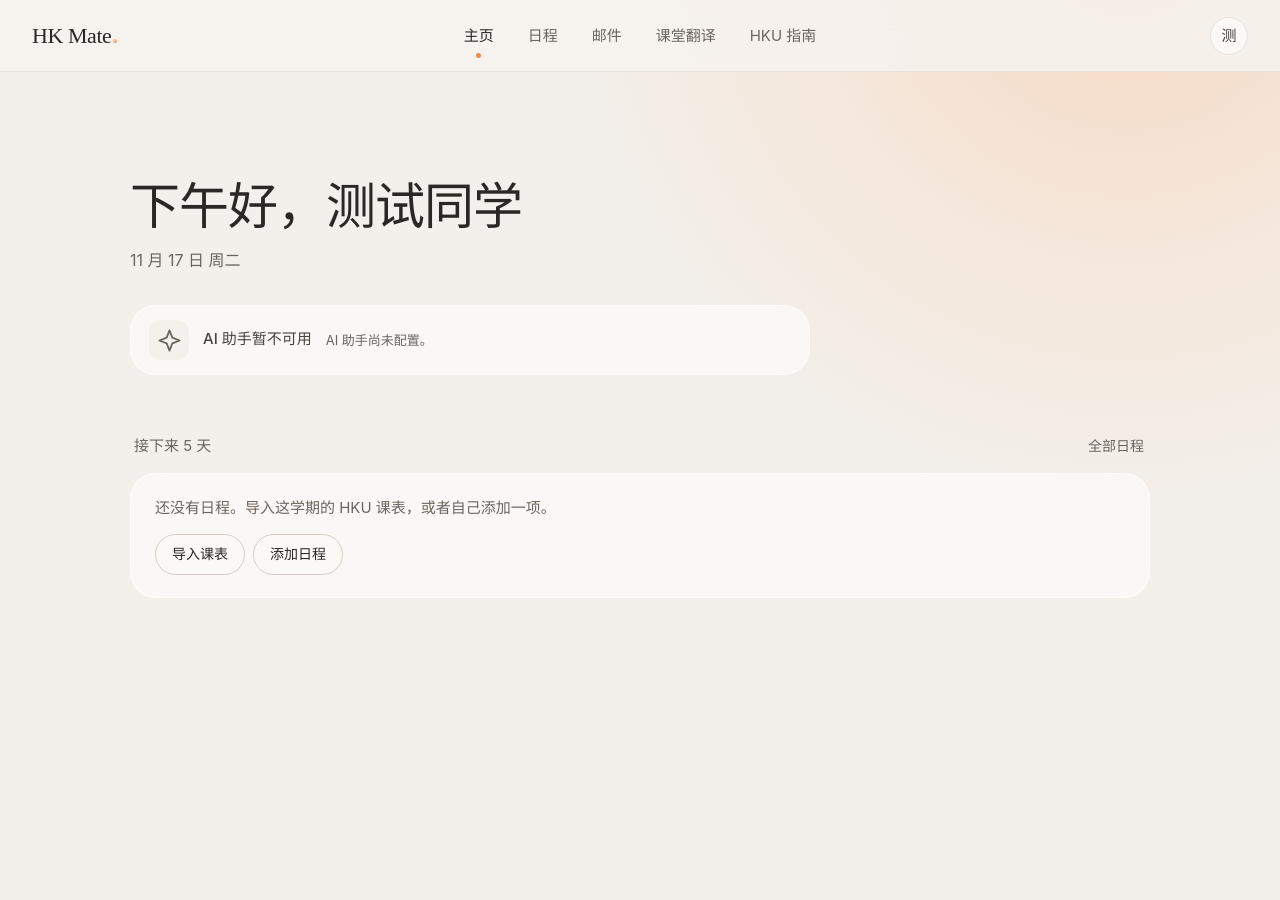
account pages › opens My Schedule with the add form from the home page
The image size is (1280, 900).
Step 1. Click the button "添加日程" → (298, 555), box [253,534,343,575]
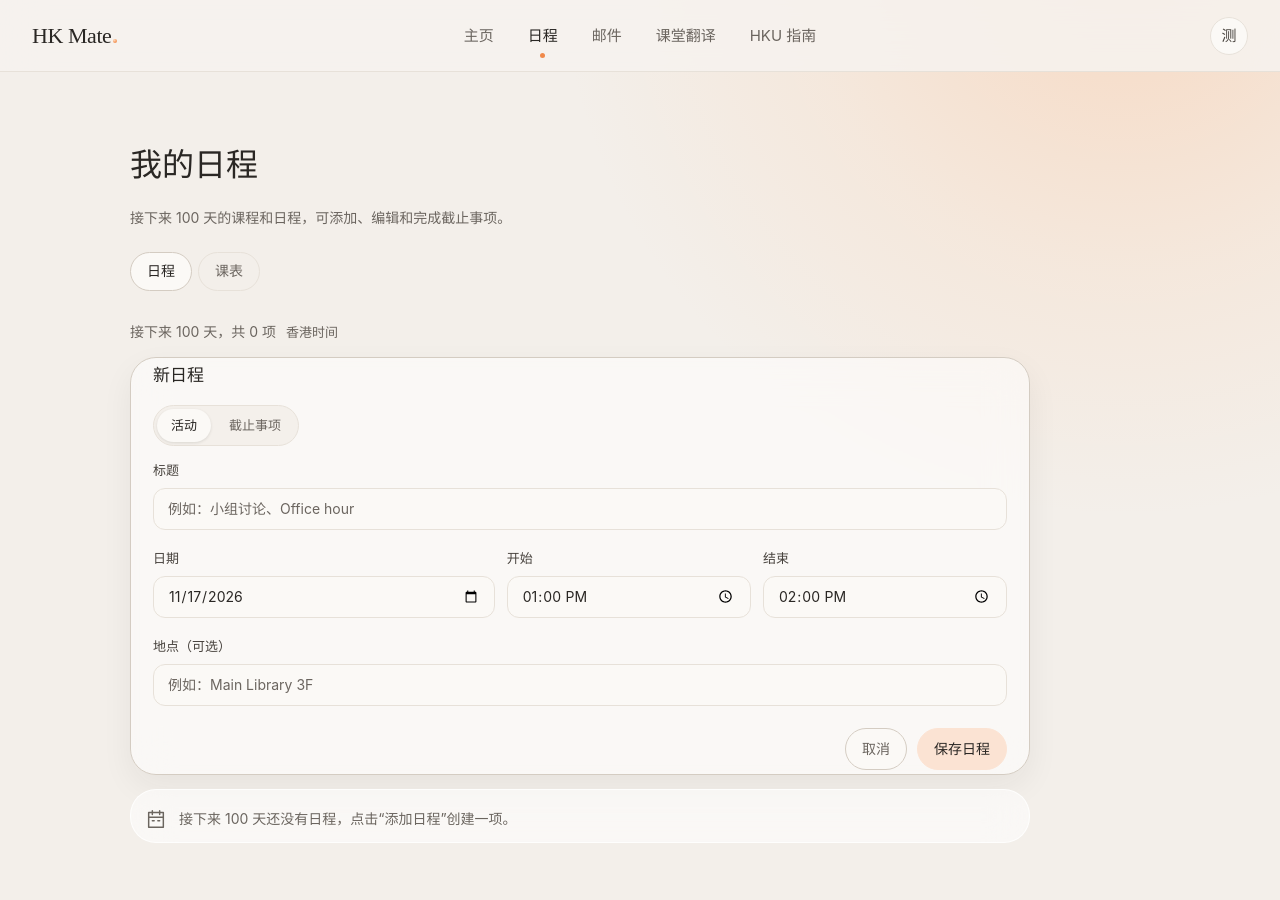
Now the heading "我的日程" is shown, box [130,145,258,184]
Now the form named "添加日程" is shown, box [130,357,1030,775]
